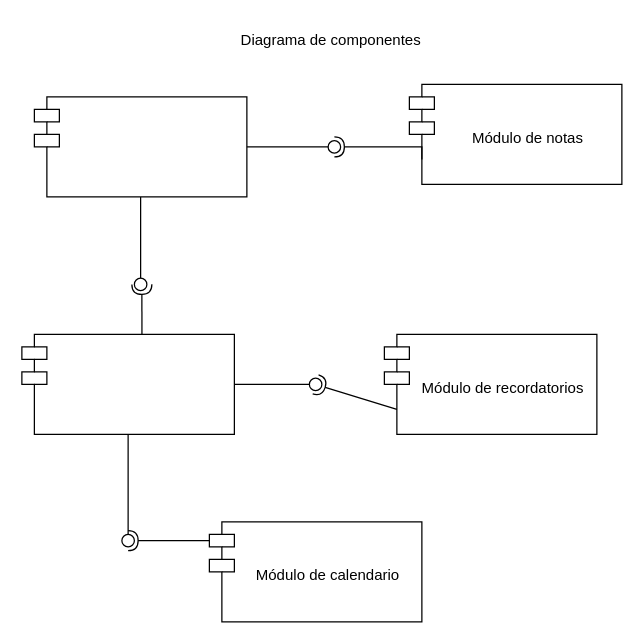
The diagram is 644 pixels wide and 644 high, and some of its shapes have lost their labels. Each missing label, with the centre of its shape:
Módulo de tareas: point (127, 383)
Módulo de usuario: point (140, 146)
